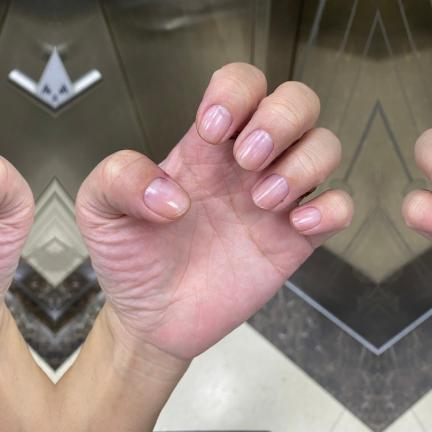Nail: (143, 177, 190, 219), (235, 129, 273, 170), (197, 105, 232, 144), (252, 174, 289, 210), (291, 207, 321, 230)
